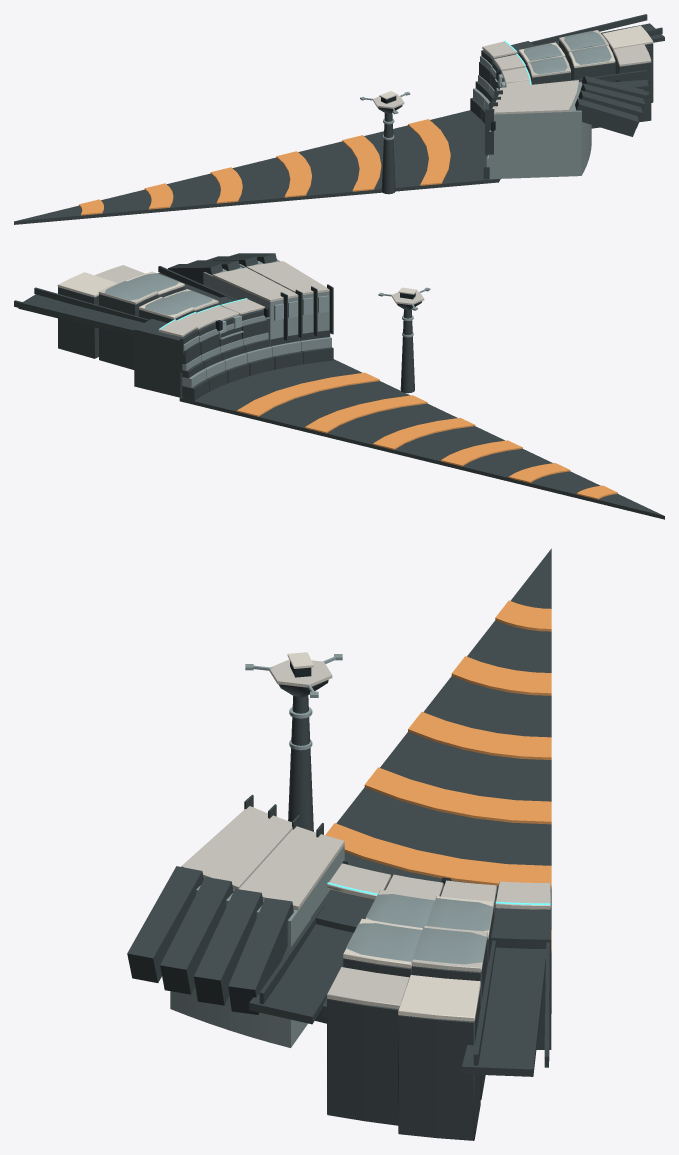
Rendered from Weather_Lung_Sector_11_Structure.glb.
The picture shows the model from 3 angles, top to bottom: view 1: azimuth 30°, elevation 25°; view 2: azimuth 150°, elevation 25°; view 3: azimuth 270°, elevation 25°; orthographic projection. The views are drawn at different scales.
Visible parts, largest first — view 1: Weather_Lung_Sector_11_Structure; view 2: Weather_Lung_Sector_11_Structure; view 3: Weather_Lung_Sector_11_Structure.
Boxes of the visible parts, x1,y1,x2,y2 form: Weather_Lung_Sector_11_Structure: (14,14,664,224); Weather_Lung_Sector_11_Structure: (14,253,664,519); Weather_Lung_Sector_11_Structure: (127,548,551,1140).
Bounding box in the file's own units: 13363 × 2021 × 3890.
